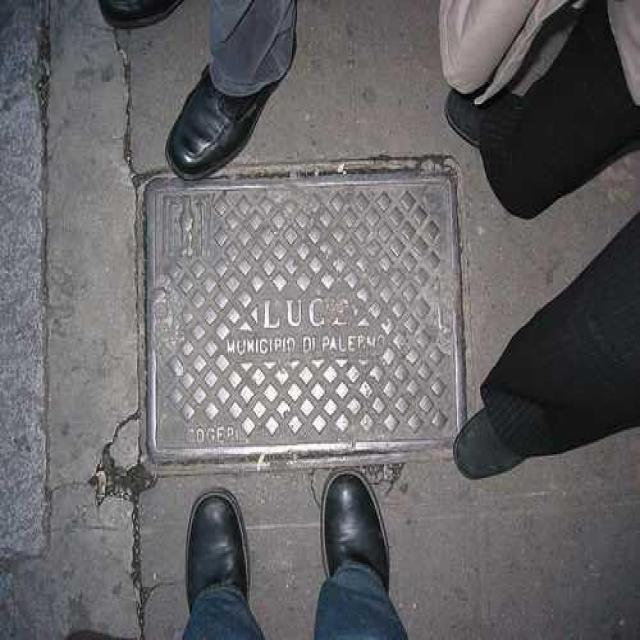manhole: (144, 155, 465, 463)
